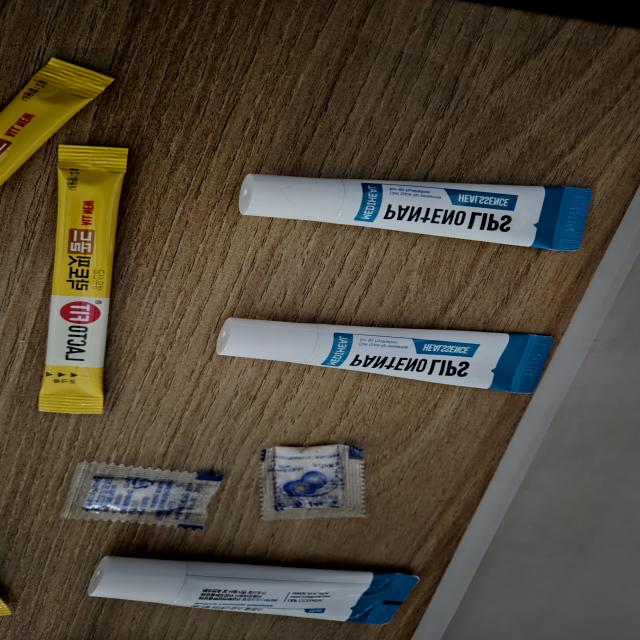lacto: (36, 140, 141, 418), (1, 55, 122, 187)
lib: (184, 316, 562, 398), (230, 173, 601, 253), (79, 556, 427, 625)
salt: (55, 458, 232, 532), (255, 436, 371, 528)
